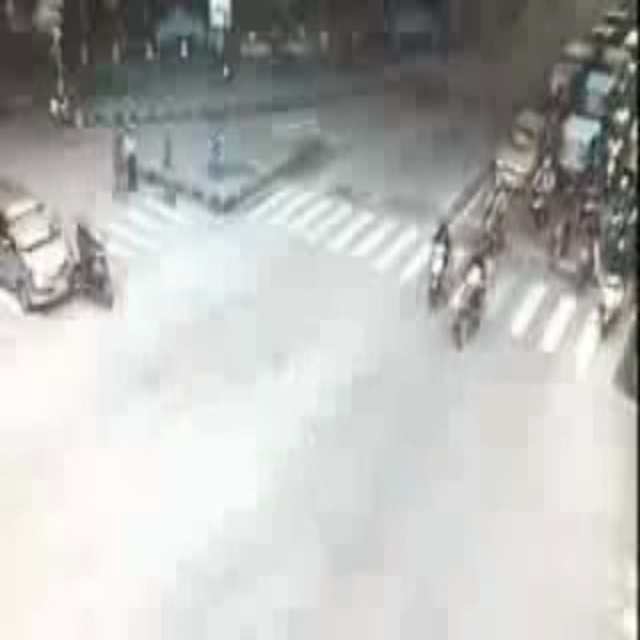acc: (1, 184, 113, 320)
